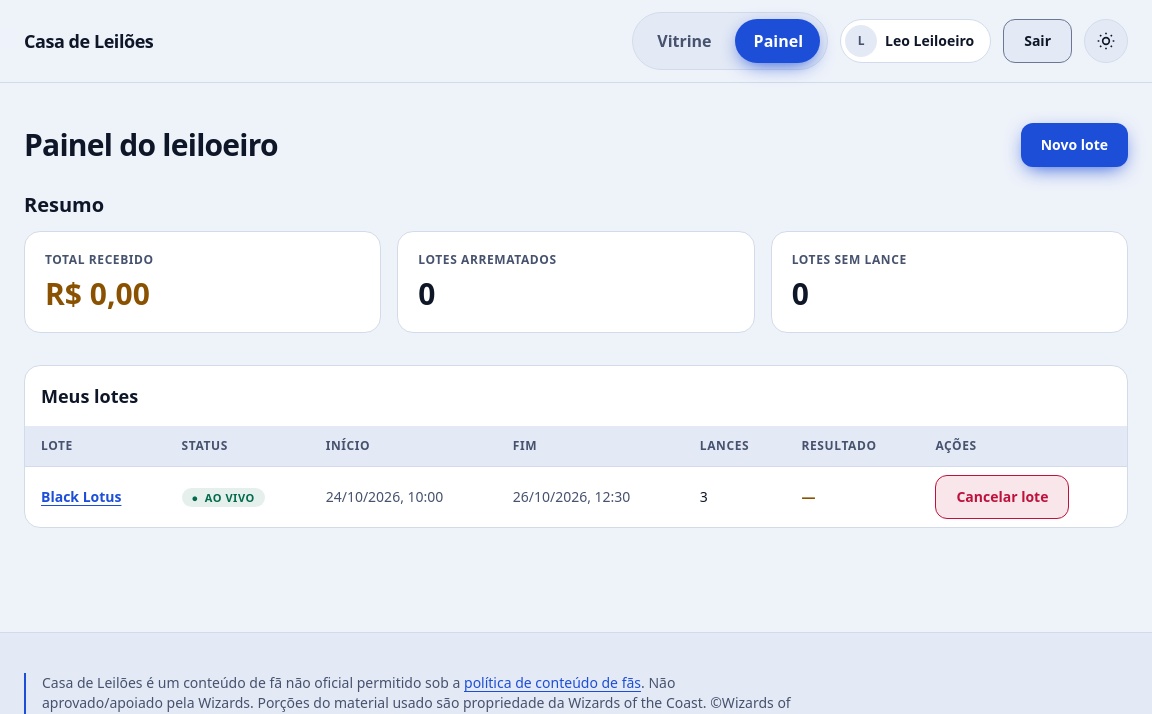
painel: cancelar lote › abre o diálogo com título, texto e foco em "Manter lote"
Step 1. Click the button with aria-label "Cancelar lote Black Lotus" → (1002, 497), box [935,475,1070,519]
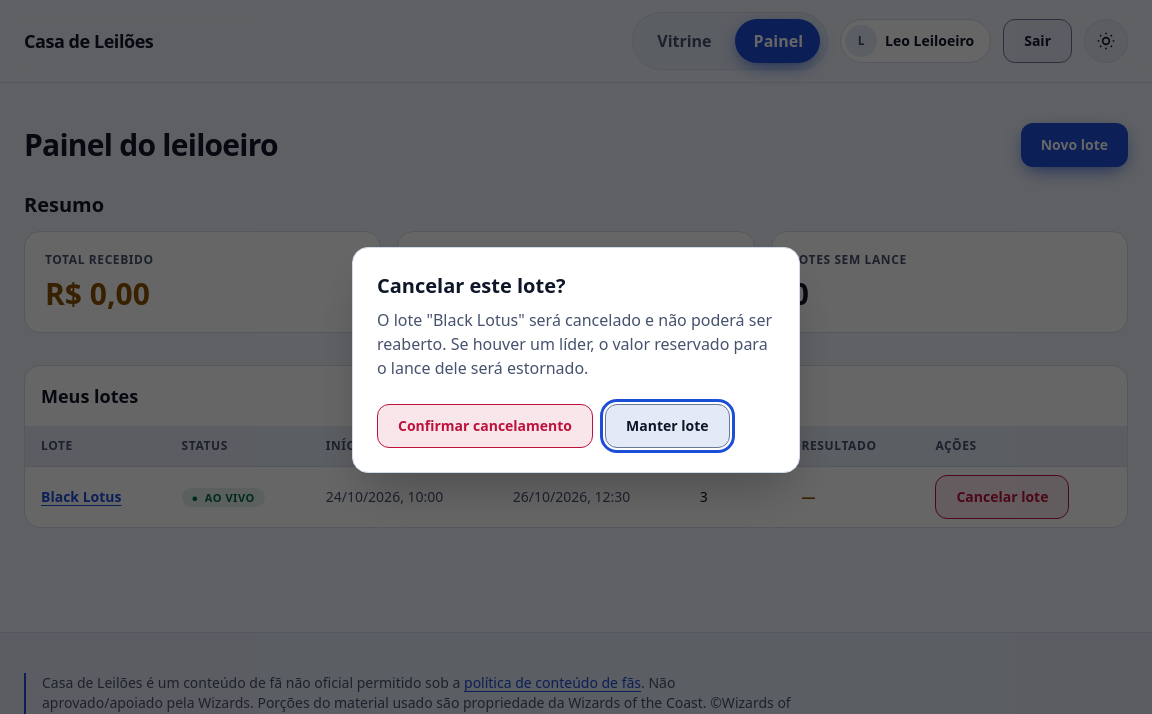
Now the text "O lote \"Black Lotus\" será cancelado e não poderá ser reaberto. Se houver um líder, o valor reservado para o lance dele s" is shown, box [377,309,772,379]
Now the button "Confirmar cancelamento" is enabled, box [377,404,593,448]
